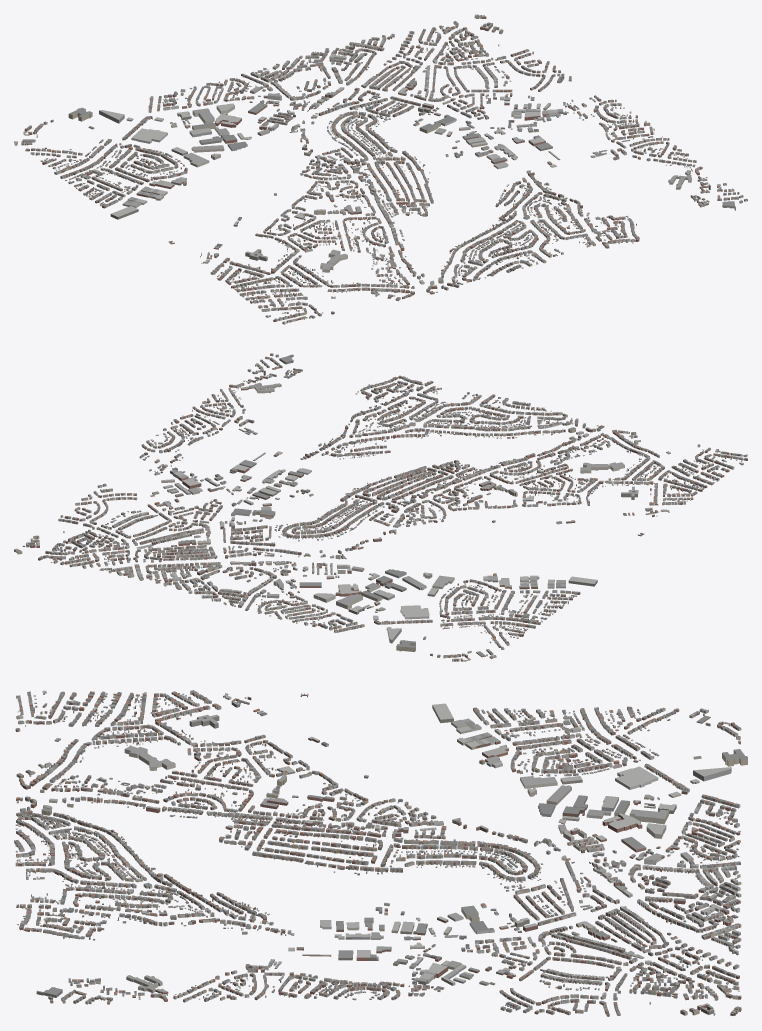
The model's file is buildings_b0_1_0.glb.
3 renders of one model, top to bottom at view 1: azimuth 30°, elevation 25°; view 2: azimuth 150°, elevation 25°; view 3: azimuth 270°, elevation 25°, orthographic. The views are drawn at different scales.
Parts seen in each view (by area): view 1: t06_03_buildings_b0, t04_00_buildings_b0, t05_01_buildings_b0, t05_03_buildings_b0, t06_00_buildings_b0, t07_03_buildings_b0, t04_03_buildings_b0, t06_02_buildings_b0, t05_00_buildings_b0, t07_02_buildings_b0, t04_02_buildings_b0, t07_01_buildings_b0 (+4 smaller); view 2: t06_03_buildings_b0, t07_03_buildings_b0, t06_00_buildings_b0, t05_03_buildings_b0, t05_01_buildings_b0, t04_00_buildings_b0, t04_03_buildings_b0, t05_00_buildings_b0, t06_02_buildings_b0, t07_02_buildings_b0, t04_02_buildings_b0, t06_01_buildings_b0 (+4 smaller); view 3: t06_03_buildings_b0, t07_03_buildings_b0, t05_01_buildings_b0, t06_00_buildings_b0, t05_03_buildings_b0, t06_02_buildings_b0, t04_03_buildings_b0, t04_00_buildings_b0, t05_00_buildings_b0, t07_02_buildings_b0, t04_02_buildings_b0, t06_01_buildings_b0 (+4 smaller).
Part boxes in pixels (<box>): t06_03_buildings_b0: <box>241,40,432,118</box>; t04_00_buildings_b0: <box>210,243,399,324</box>; t05_01_buildings_b0: <box>274,163,429,242</box>; t05_03_buildings_b0: <box>142,78,303,152</box>; t06_00_buildings_b0: <box>476,193,639,268</box>; t07_03_buildings_b0: <box>362,14,549,94</box>; t04_03_buildings_b0: <box>14,107,187,183</box>; t06_02_buildings_b0: <box>327,94,489,163</box>; t05_00_buildings_b0: <box>335,229,519,299</box>; t07_02_buildings_b0: <box>439,65,621,143</box>; t04_02_buildings_b0: <box>74,152,209,219</box>; t07_01_buildings_b0: <box>528,107,688,167</box>; t06_03_buildings_b0: <box>130,529,310,610</box>; t07_03_buildings_b0: <box>14,502,197,577</box>; t06_00_buildings_b0: <box>345,375,515,439</box>; t05_03_buildings_b0: <box>256,555,426,633</box>; t05_01_buildings_b0: <box>383,460,565,522</box>; t04_00_buildings_b0: <box>569,432,747,504</box>; t04_03_buildings_b0: <box>386,588,547,661</box>; t05_00_buildings_b0: <box>474,401,633,475</box>; t06_02_buildings_b0: <box>198,483,382,543</box>; t07_02_buildings_b0: <box>81,440,256,528</box>; t04_02_buildings_b0: <box>432,573,597,616</box>; t06_01_buildings_b0: <box>262,429,426,496</box>; t06_03_buildings_b0: <box>557,853,741,940</box>; t07_03_buildings_b0: <box>557,930,741,1016</box>; t05_01_buildings_b0: <box>195,765,379,851</box>; t06_00_buildings_b0: <box>15,847,198,930</box>; t05_03_buildings_b0: <box>546,784,740,863</box>; t06_02_buildings_b0: <box>375,843,560,939</box>; t04_03_buildings_b0: <box>557,706,747,789</box>; t04_00_buildings_b0: <box>15,690,200,776</box>; t05_00_buildings_b0: <box>14,769,198,852</box>; t07_02_buildings_b0: <box>376,936,560,1014</box>; t04_02_buildings_b0: <box>432,703,559,788</box>; t06_01_buildings_b0: <box>196,844,383,939</box>.
Bounding box in the file's own units: 2019 × 76.66 × 2031.
